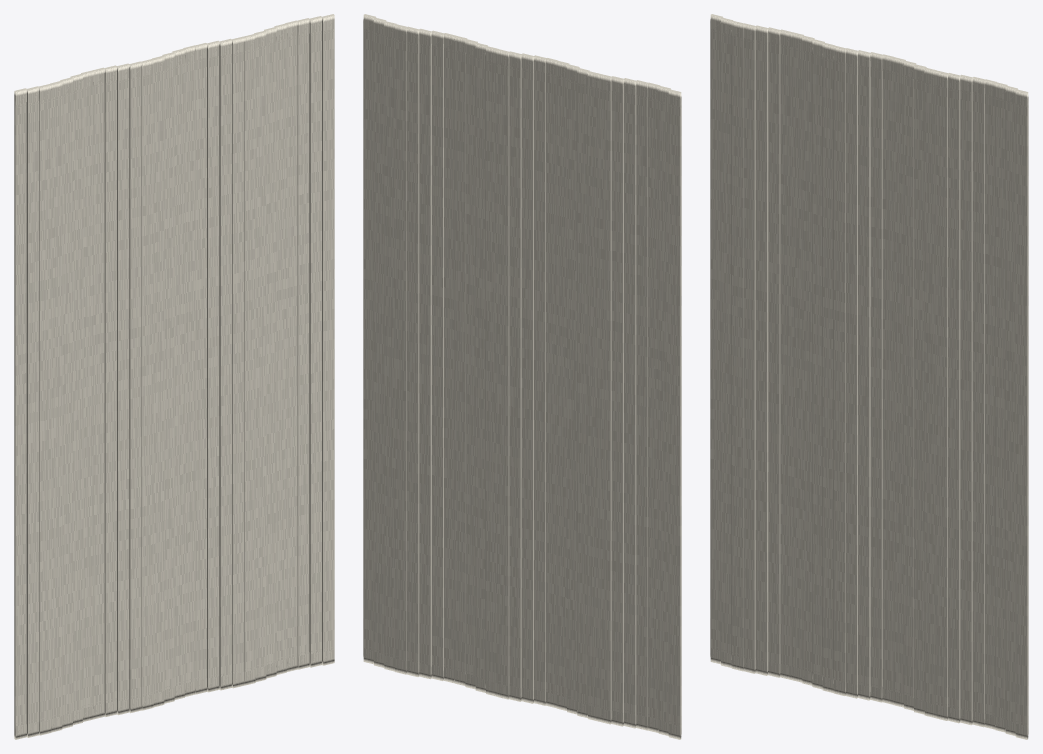
The model's file is shower-curtain.glb.
3 renders of one model, left to right at view 1: azimuth 30°, elevation 25°; view 2: azimuth 150°, elevation 25°; view 3: azimuth 330°, elevation 25°, orthographic.
Parts seen in each view (by area): view 1: fold (×28); view 2: fold (×28); view 3: fold (×28).
Boxes of the visible parts, x1=… form: fold (×28): x1=14, y1=14, x2=334, y2=739; fold (×28): x1=363, y1=14, x2=681, y2=739; fold (×28): x1=710, y1=14, x2=1028, y2=739.
Bounding box in the file's own units: 0.9358 × 1.82 × 0.0234.
1 material, 1 textured.
